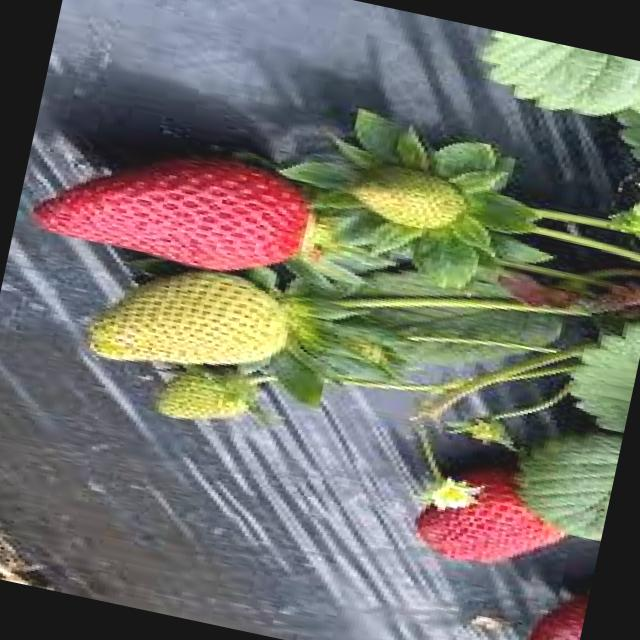strawberry: (14, 117, 360, 303), (398, 444, 570, 586)
